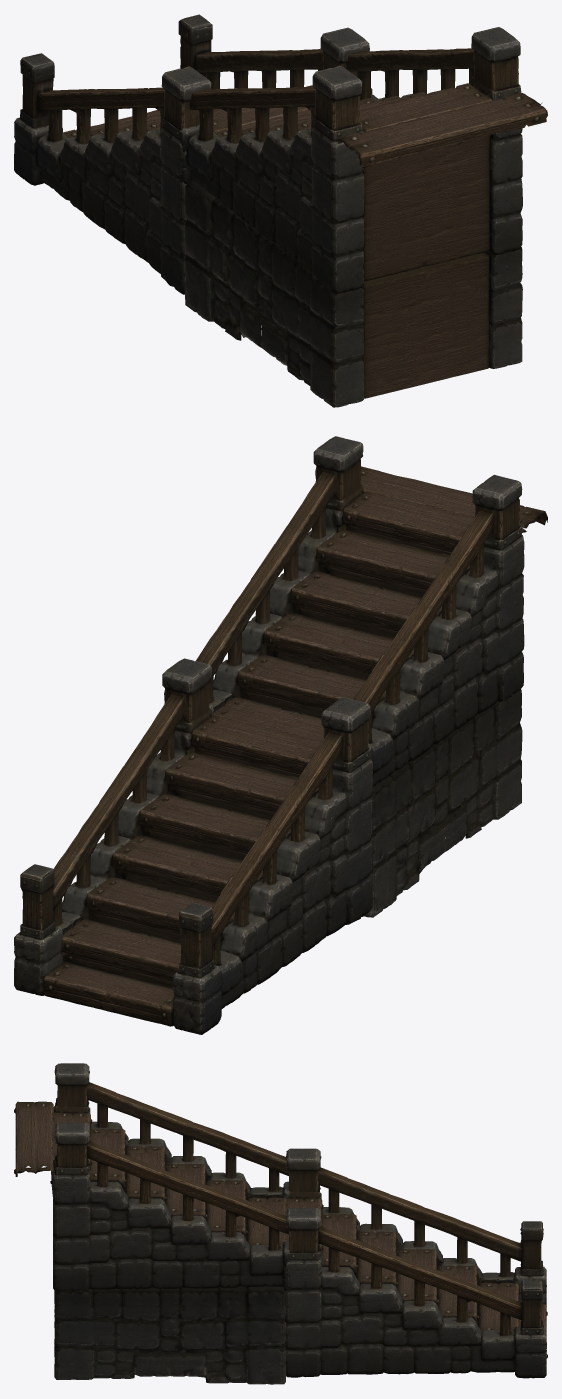
Rendered from Staircase_wood.fbx.
3 views of the same model, one above another, from view 1: azimuth 30°, elevation 25°; view 2: azimuth 150°, elevation 25°; view 3: azimuth 270°, elevation 25° (orthographic). The views are drawn at different scales.
Parts seen in each view (by area): view 1: Stairs_wood; view 2: Stairs_wood; view 3: Stairs_wood.
Boxes of the visible parts, x1,y1,x2,y2 form: Stairs_wood: (14, 14, 547, 407); Stairs_wood: (14, 436, 547, 1034); Stairs_wood: (14, 1063, 547, 1384).
Bounding box in the file's own units: 277 × 450 × 867.
Materials: 1 (1 with a texture image).
